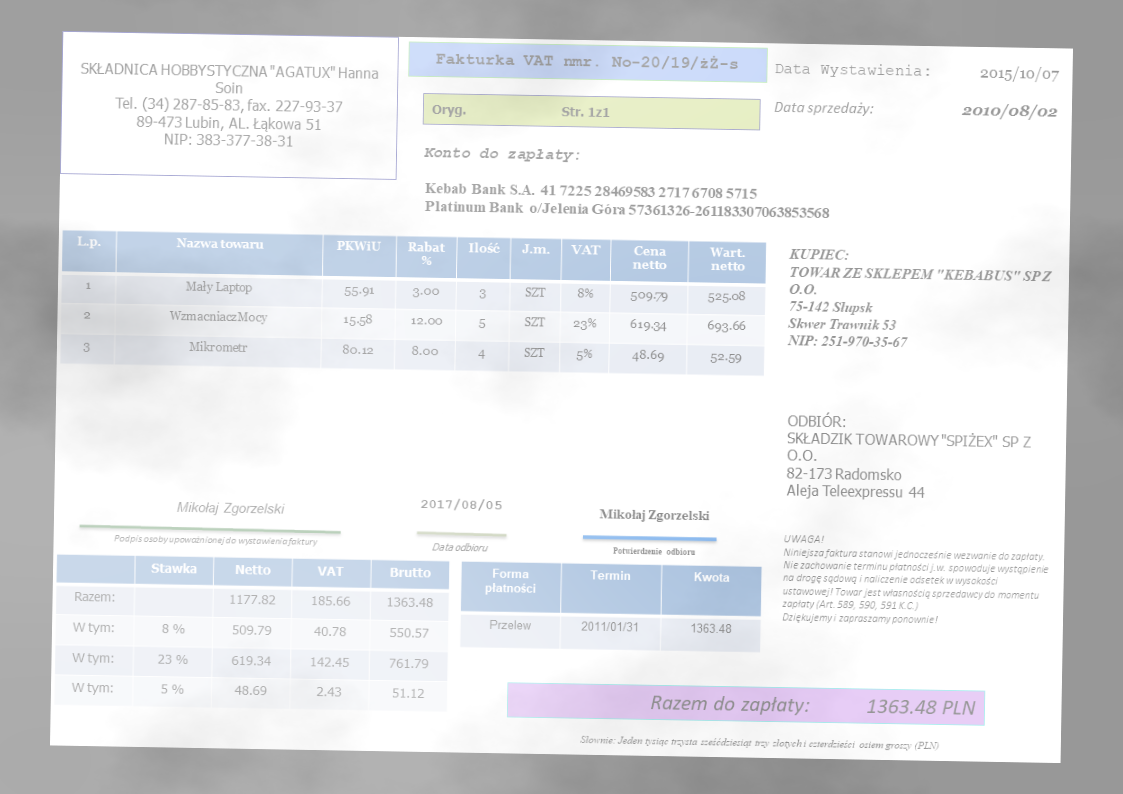Table: (58, 229, 768, 378), (52, 553, 452, 712), (458, 559, 763, 655)
TextBox: (784, 243, 1060, 355), (77, 58, 381, 154), (779, 532, 1050, 630), (783, 408, 1035, 507), (421, 179, 833, 222), (647, 690, 978, 721), (577, 731, 942, 754), (433, 48, 742, 73), (429, 99, 612, 123), (420, 143, 583, 165), (111, 531, 321, 548), (773, 60, 931, 82), (595, 505, 712, 526), (959, 101, 1059, 124), (175, 498, 289, 518), (771, 98, 875, 119), (417, 493, 504, 516), (977, 63, 1061, 85), (609, 544, 697, 559), (430, 540, 491, 555)
